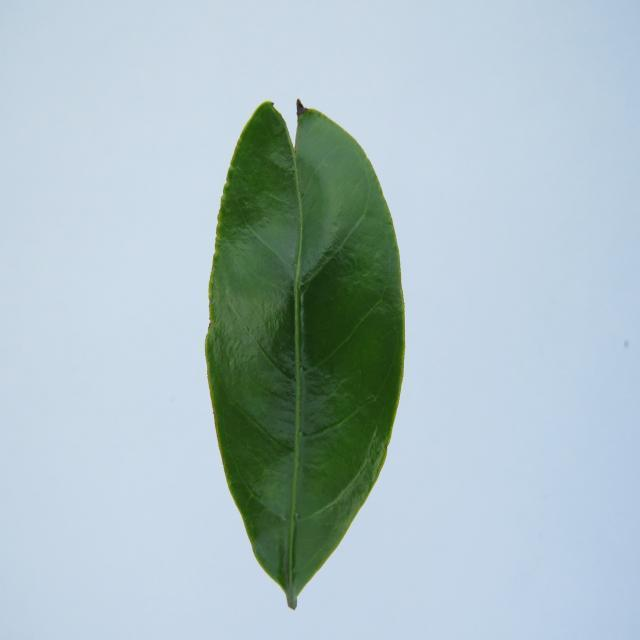DeficienciaNutricional-Boro: (206, 100, 404, 608)
